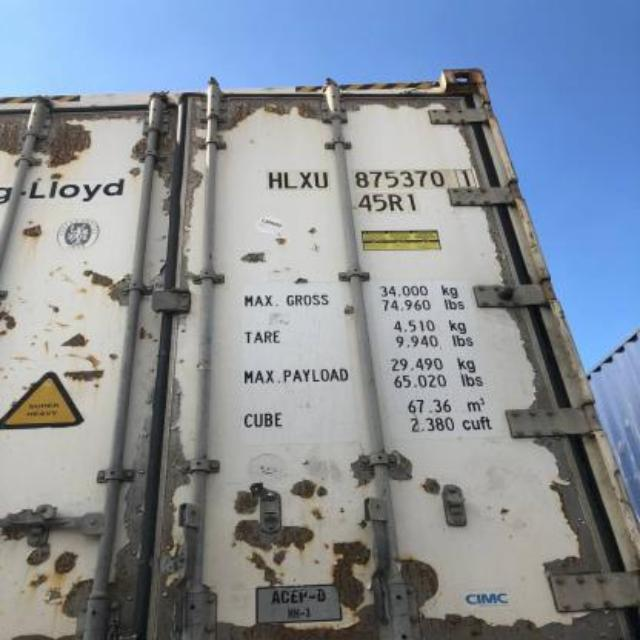0: (430, 167, 446, 190)
1: (454, 163, 480, 187)
3: (401, 166, 414, 190)
5: (384, 165, 398, 191)
7: (368, 167, 382, 191), (416, 166, 428, 187)
8: (354, 168, 370, 192)
H: (265, 164, 281, 192)
L: (280, 164, 298, 193)
U: (312, 167, 328, 191)
X: (294, 165, 316, 191)
